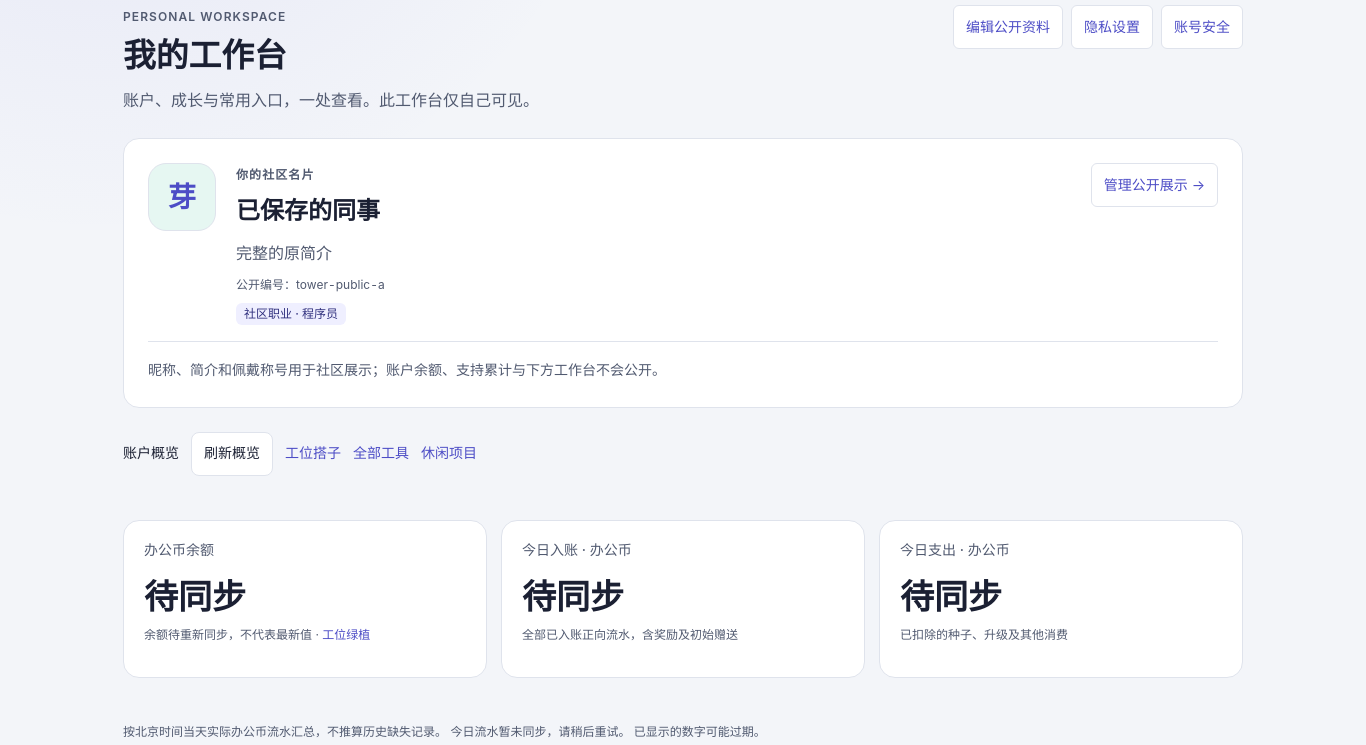
it: private profile overview and explicit editing › keeps the draft and unlocks editing after a failed save so an explicit retry can succeed
Expected: the text "完整的原简介" is shown, [236, 243, 332, 263]
Click the button "编辑公开资料". click: (1008, 27)
box: [953, 5, 1063, 49]
(page scrolled)
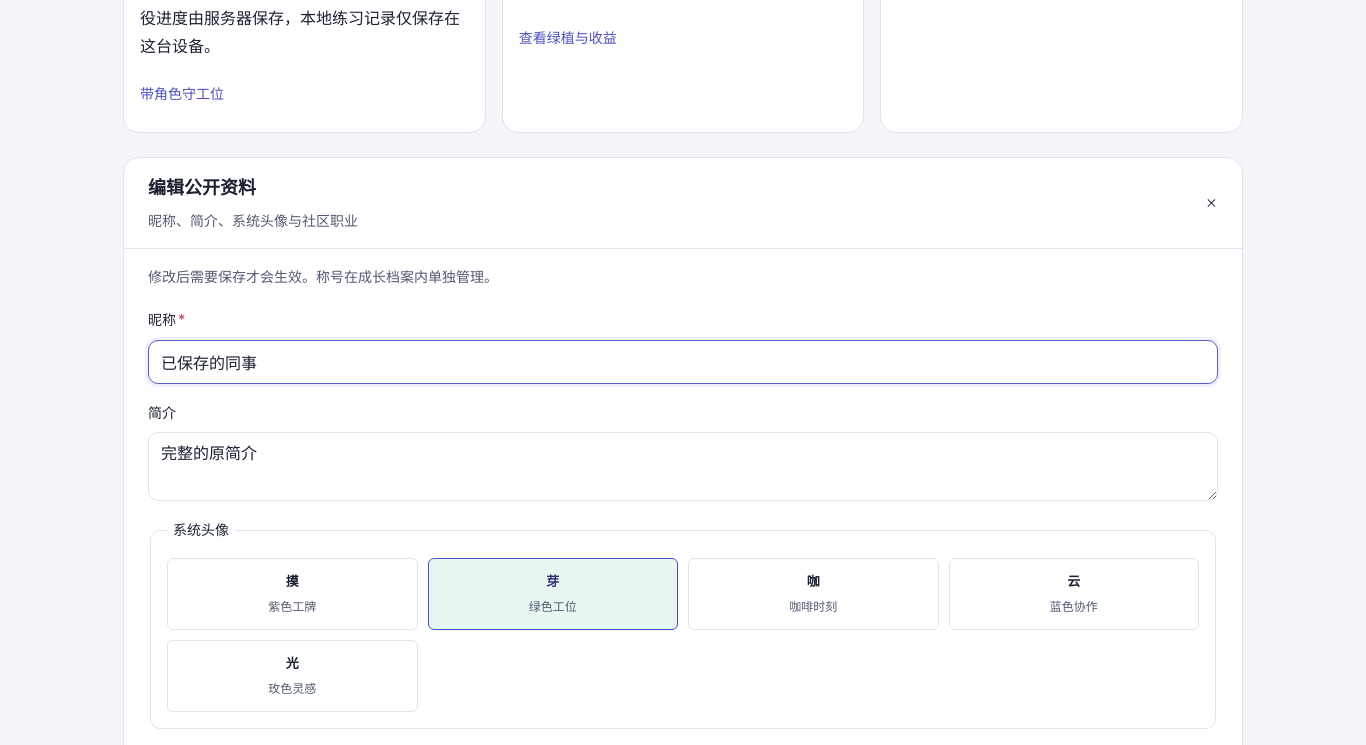
Replace the text in the text box labelled "简介" with "尚未提交的新简介". click: (683, 467)
box: [148, 432, 1218, 502]
(page scrolled)
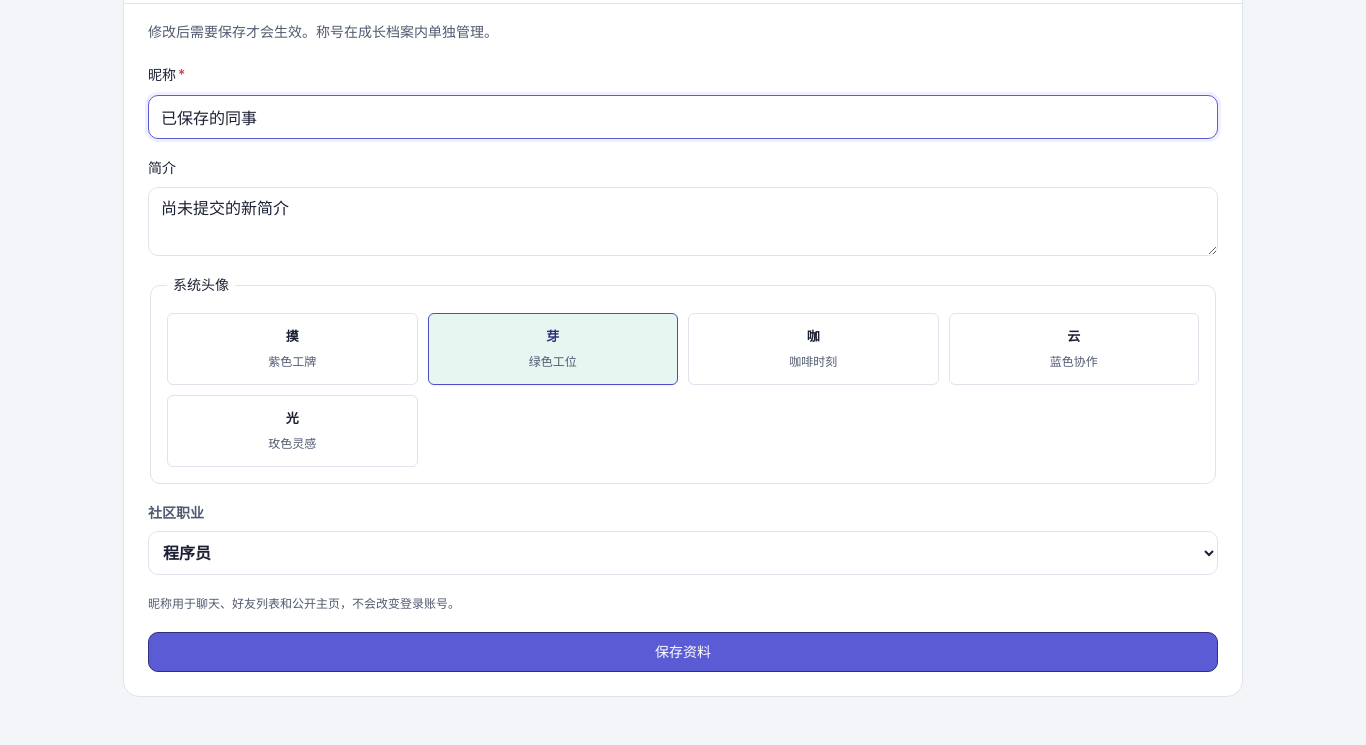
Submit the form named "保存资料"
(page scrolled)
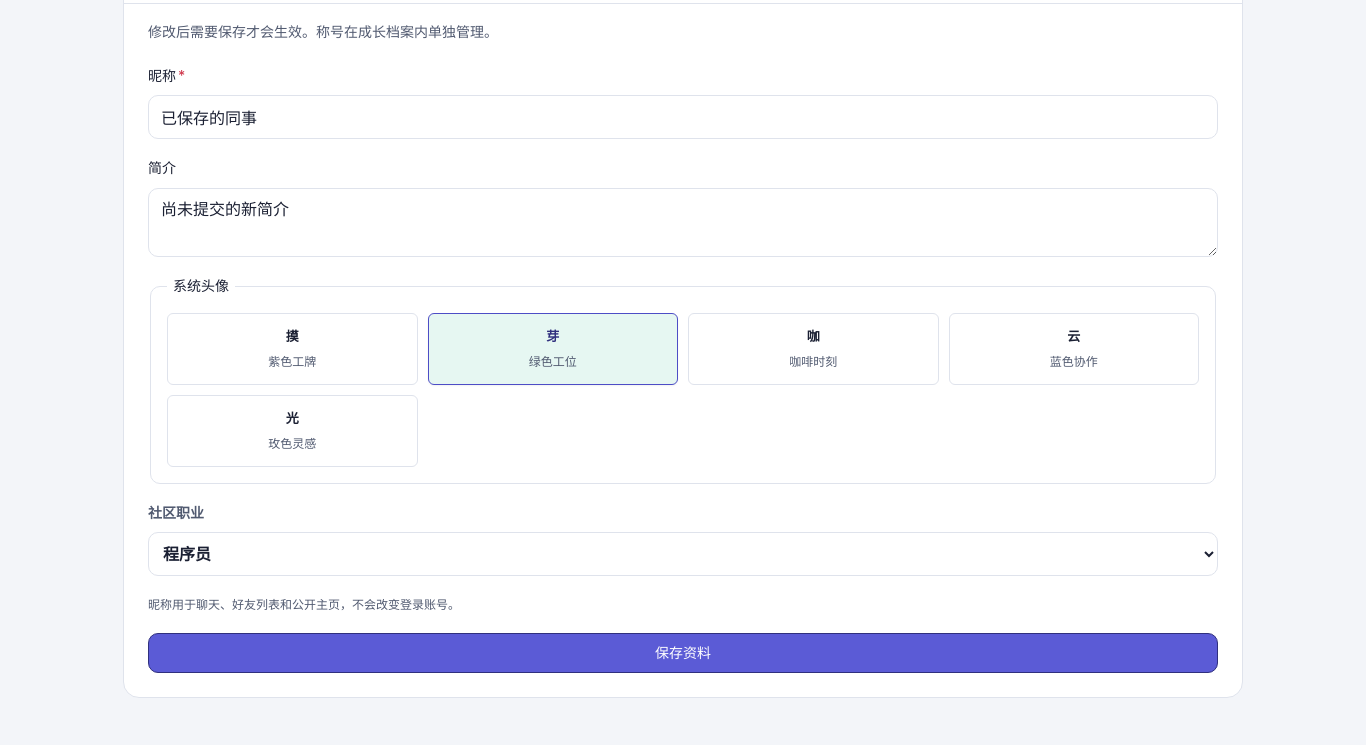
Now the text box labelled "简介" is enabled, box [148, 188, 1218, 257]
Submit the form named "保存资料"
(page scrolled)
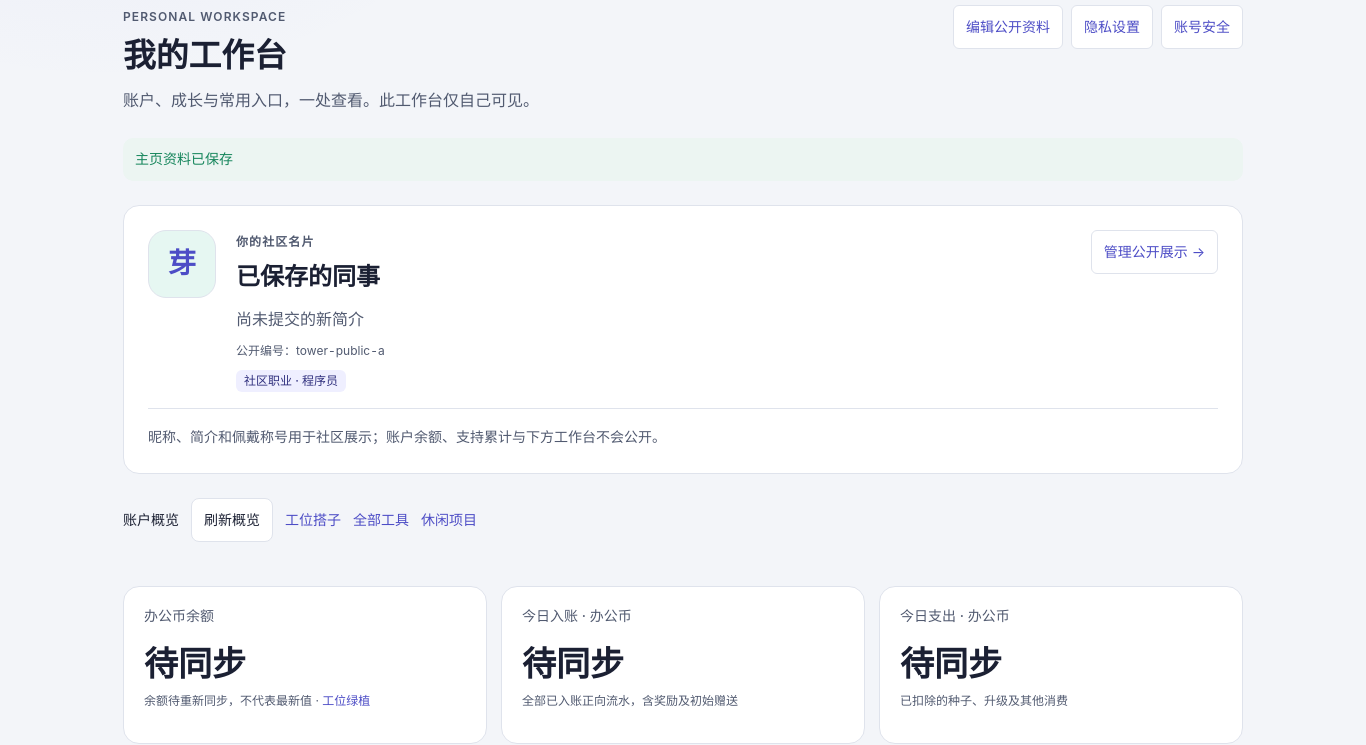
Now the text "主页资料已保存" is shown, box [123, 138, 1243, 181]
Now the text "尚未提交的新简介" is shown, box [236, 309, 364, 329]
